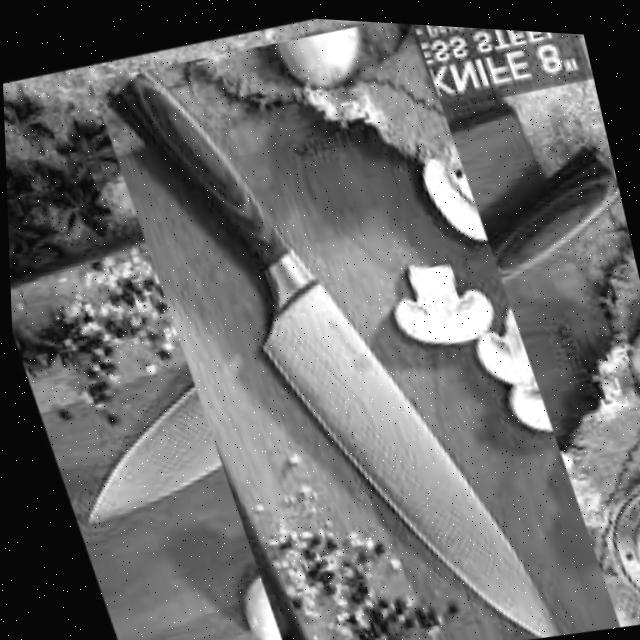knife: (103, 12, 560, 640), (11, 102, 640, 552)
